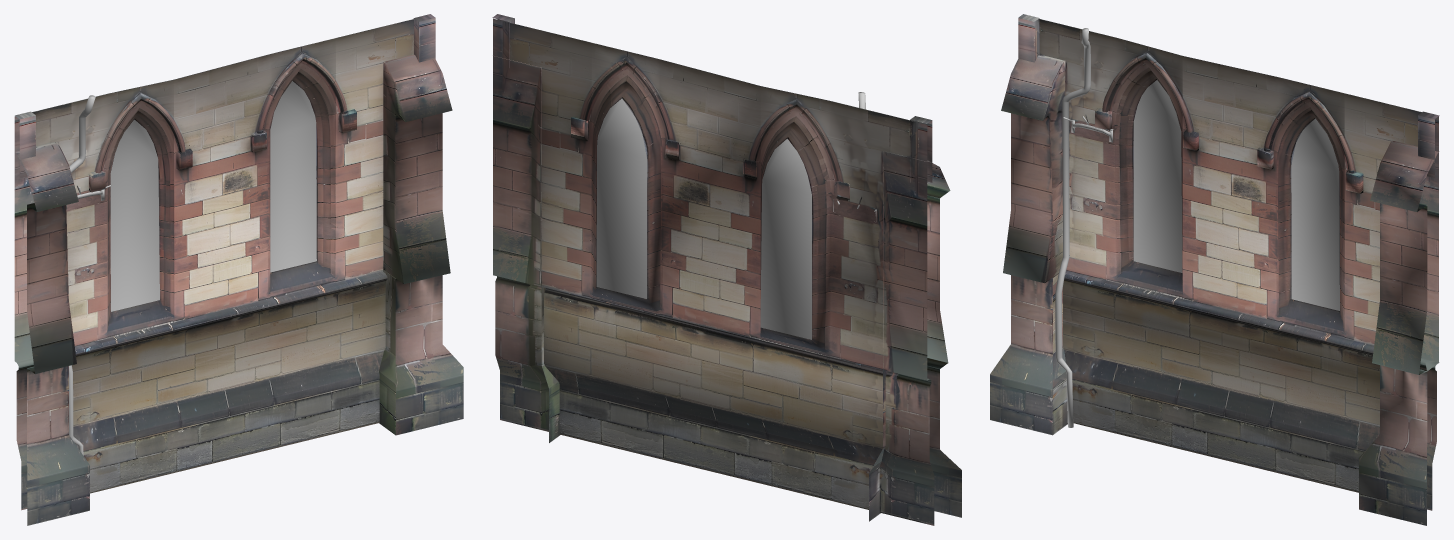
File: building_church_side_bottom2.obj
3 renders of one model, left to right at view 1: azimuth 30°, elevation 25°; view 2: azimuth 150°, elevation 25°; view 3: azimuth 330°, elevation 25°, orthographic. The views are drawn at different scales.
Visible parts, largest first — view 1: building_church_side_bottom2; view 2: building_church_side_bottom2; view 3: building_church_side_bottom2.
Part boxes in pixels (x1,y1,x2,y2): building_church_side_bottom2: (14, 14, 463, 525); building_church_side_bottom2: (492, 14, 961, 525); building_church_side_bottom2: (990, 14, 1439, 525).
Bounding box in the file's own units: 5.24 × 4.58 × 0.6233.
